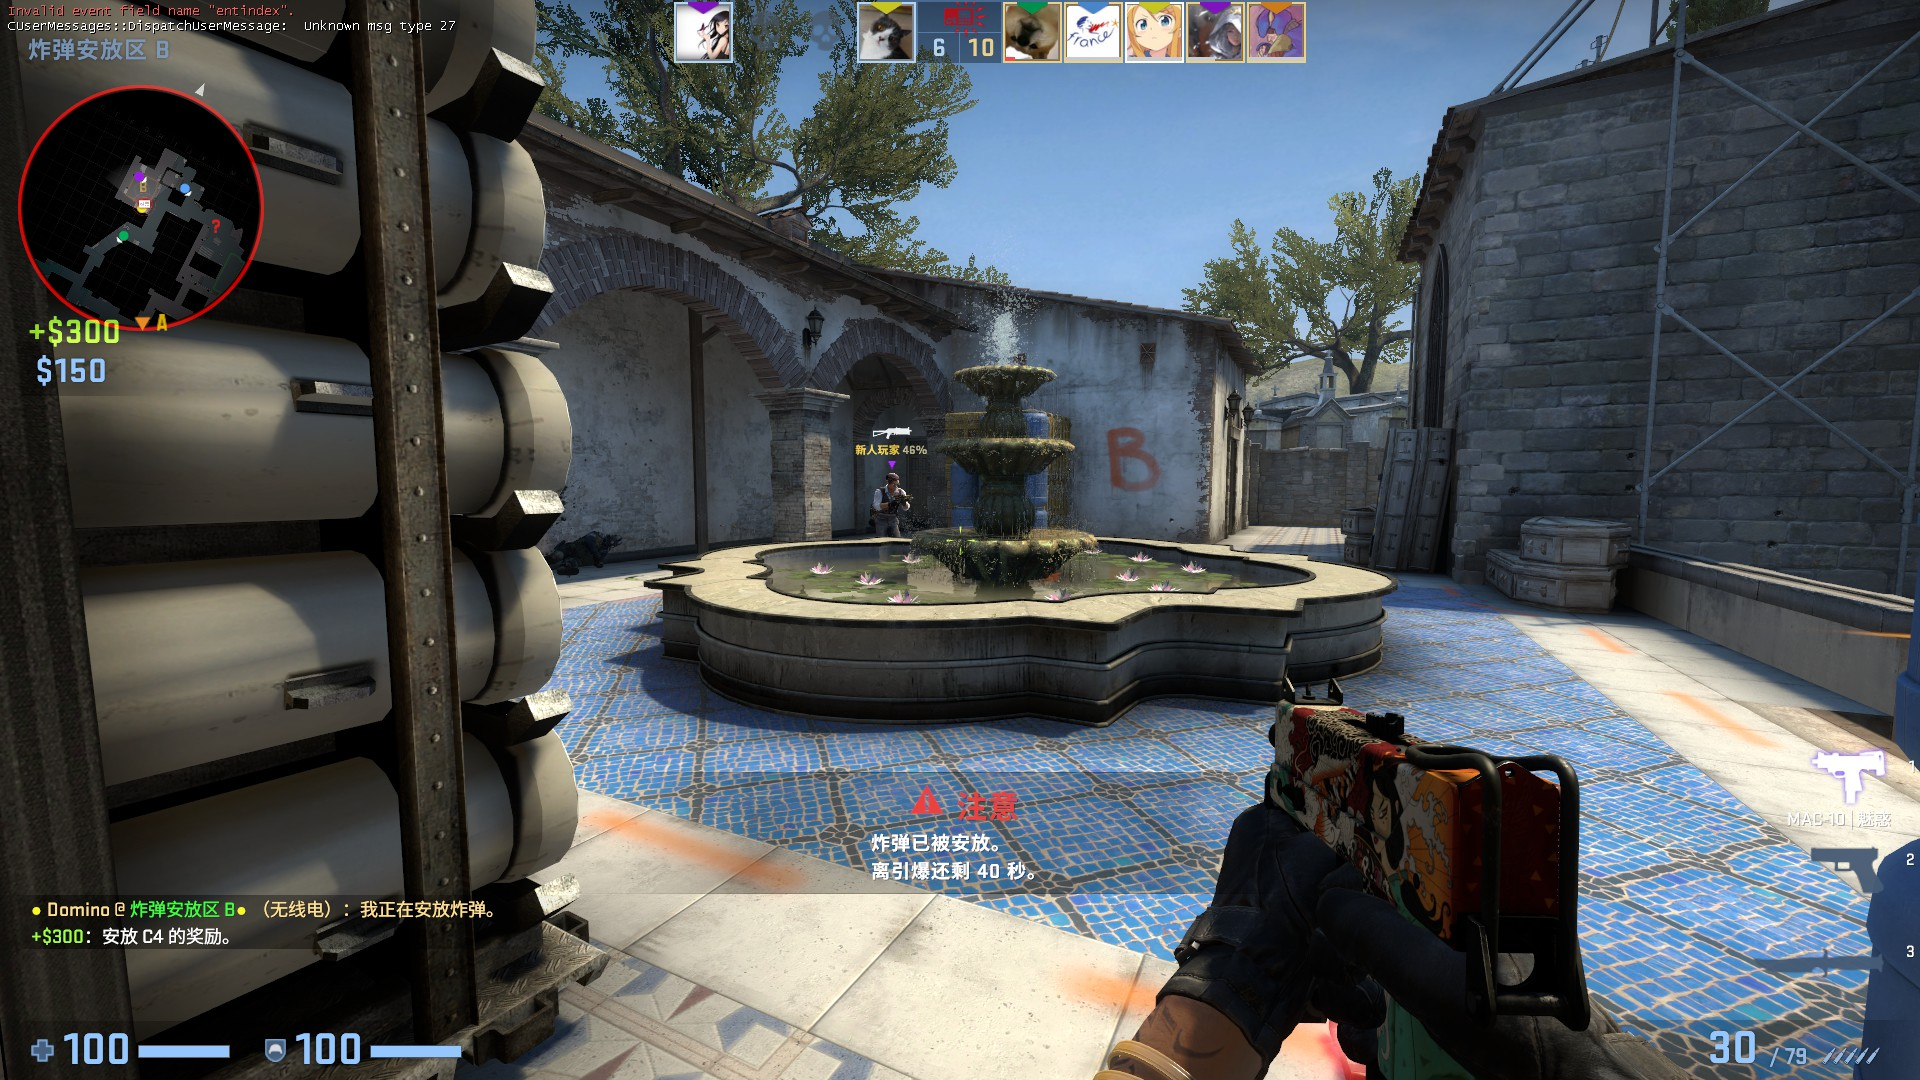head: (882, 470, 901, 490)
